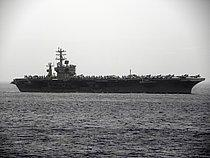MIL_Ship: (10, 48, 206, 95)
